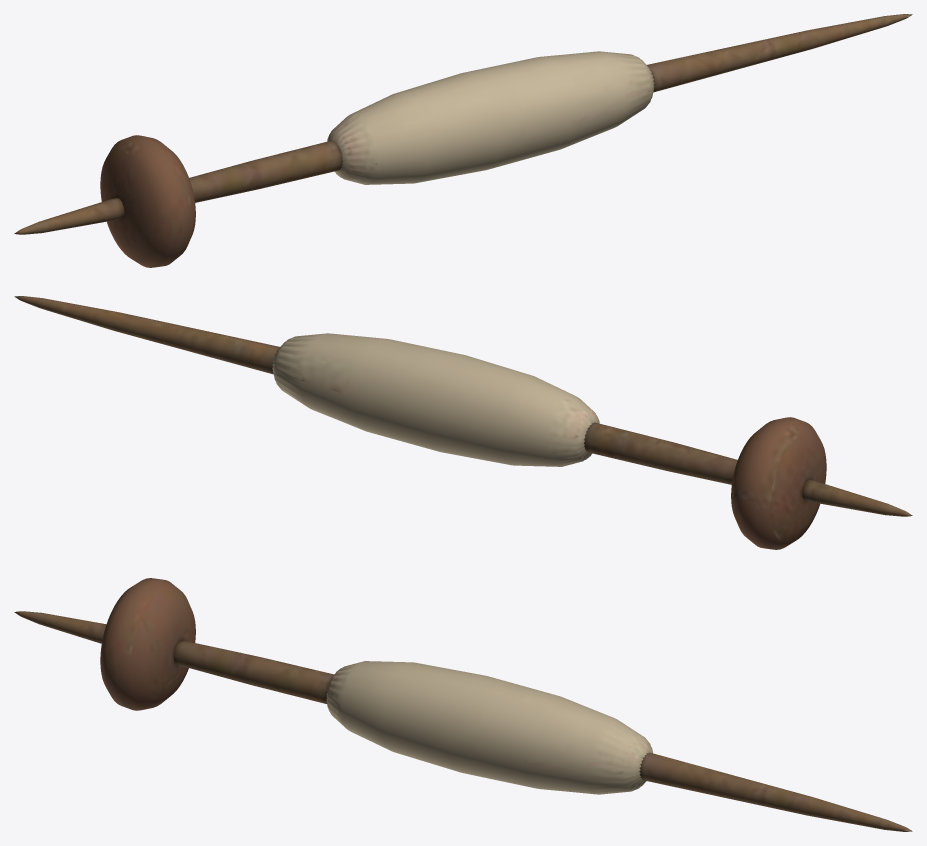
The model's file is spindle.glb.
3 renders of one model, top to bottom at view 1: azimuth 30°, elevation 25°; view 2: azimuth 150°, elevation 25°; view 3: azimuth 330°, elevation 25°, orthographic.
Visible parts, largest first — view 1: spindle; view 2: spindle; view 3: spindle.
Part boxes in pixels (<box>): spindle: <box>14,14,912,267</box>; spindle: <box>14,296,912,549</box>; spindle: <box>14,578,912,831</box>.
Size of the model in its own units: 0.2292 by 0.0297 by 0.0297.
Materials: 1 (1 with a texture image).
